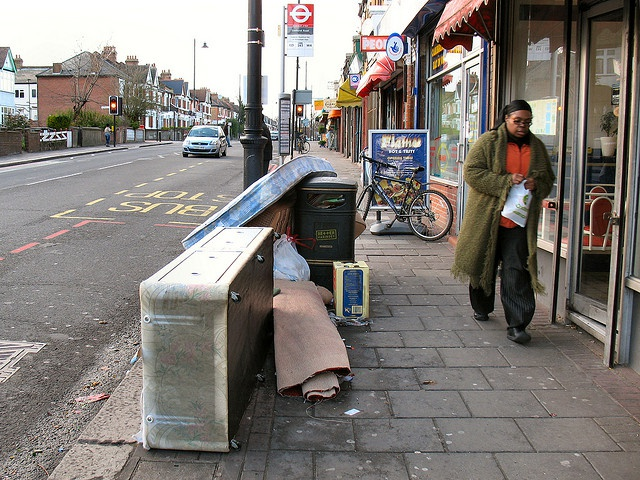non-vehicle: (357, 147, 455, 236), (298, 139, 310, 154)
